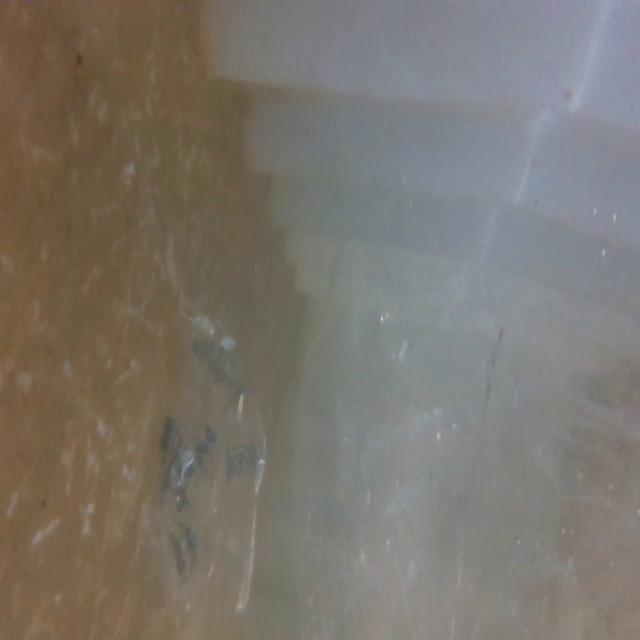plastic bags: (321, 122, 576, 640), (153, 305, 289, 616)
